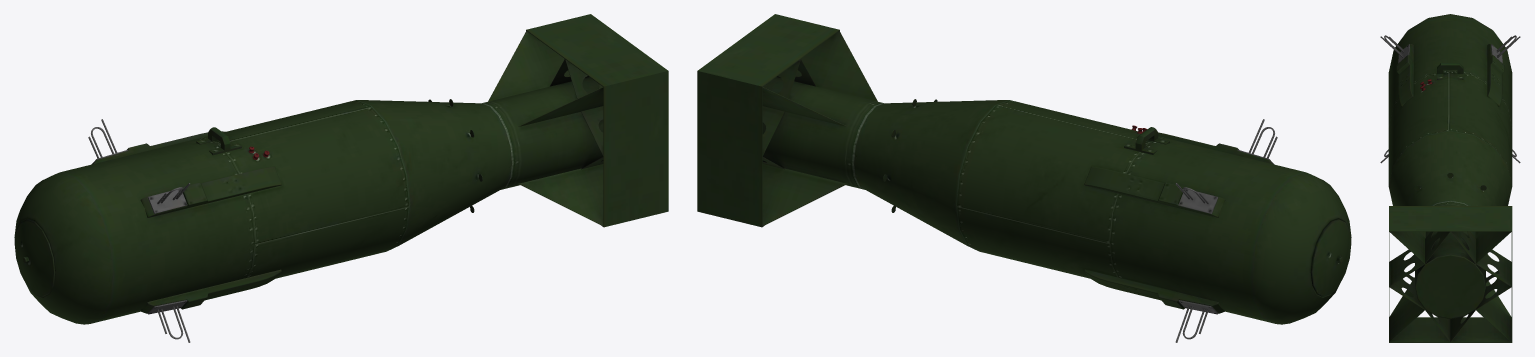
3 views of the same model, side by side, from view 1: azimuth 30°, elevation 25°; view 2: azimuth 150°, elevation 25°; view 3: azimuth 270°, elevation 25° (orthographic). The views are drawn at different scales.
Visible parts, largest first — view 1: Object_7, Object_6, Object_4, Object_5, Object_2; view 2: Object_7, Object_6, Object_4, Object_5, Object_2; view 3: Object_7, Object_6, Object_4, Object_5, Object_2.
Boxes of the visible parts, left/top/right/bottom form: Object_7: left=14, top=77, right=603, bottom=324; Object_6: left=488, top=14, right=668, bottom=227; Object_4: left=93, top=131, right=281, bottom=313; Object_5: left=88, top=119, right=190, bottom=342; Object_2: left=196, top=127, right=241, bottom=155; Object_7: left=762, top=77, right=1351, bottom=324; Object_6: left=697, top=14, right=877, bottom=227; Object_4: left=1084, top=132, right=1272, bottom=313; Object_5: left=1175, top=119, right=1277, bottom=342; Object_2: left=1124, top=127, right=1169, bottom=154; Object_7: left=1388, top=14, right=1512, bottom=318; Object_6: left=1389, top=206, right=1512, bottom=342; Object_4: left=1396, top=44, right=1504, bottom=106; Object_5: left=1380, top=35, right=1520, bottom=163; Object_2: left=1437, top=63, right=1463, bottom=79.
Bounding box in the file's own units: 4.76 × 1.21 × 1.2.
Materials: 6 (6 with a texture image).
